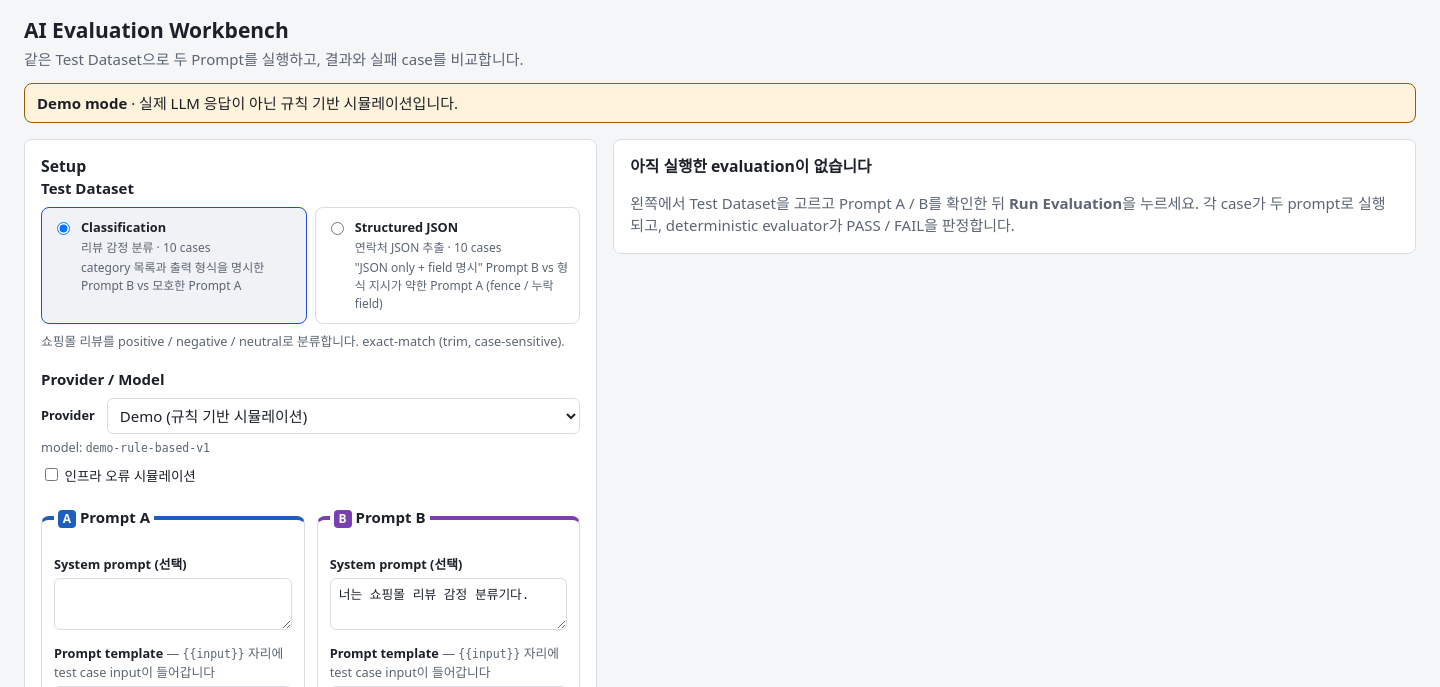
Scenario: App › Structured JSON preset: fenced JSON은 FAIL로 표시된다
The image size is (1440, 687).
What coordinates should you click on to do the following:
click the radio button labelled "Structured JSON"
I would click on:
 (337, 229)
Its box is [331, 222, 344, 235].
(page scrolled)
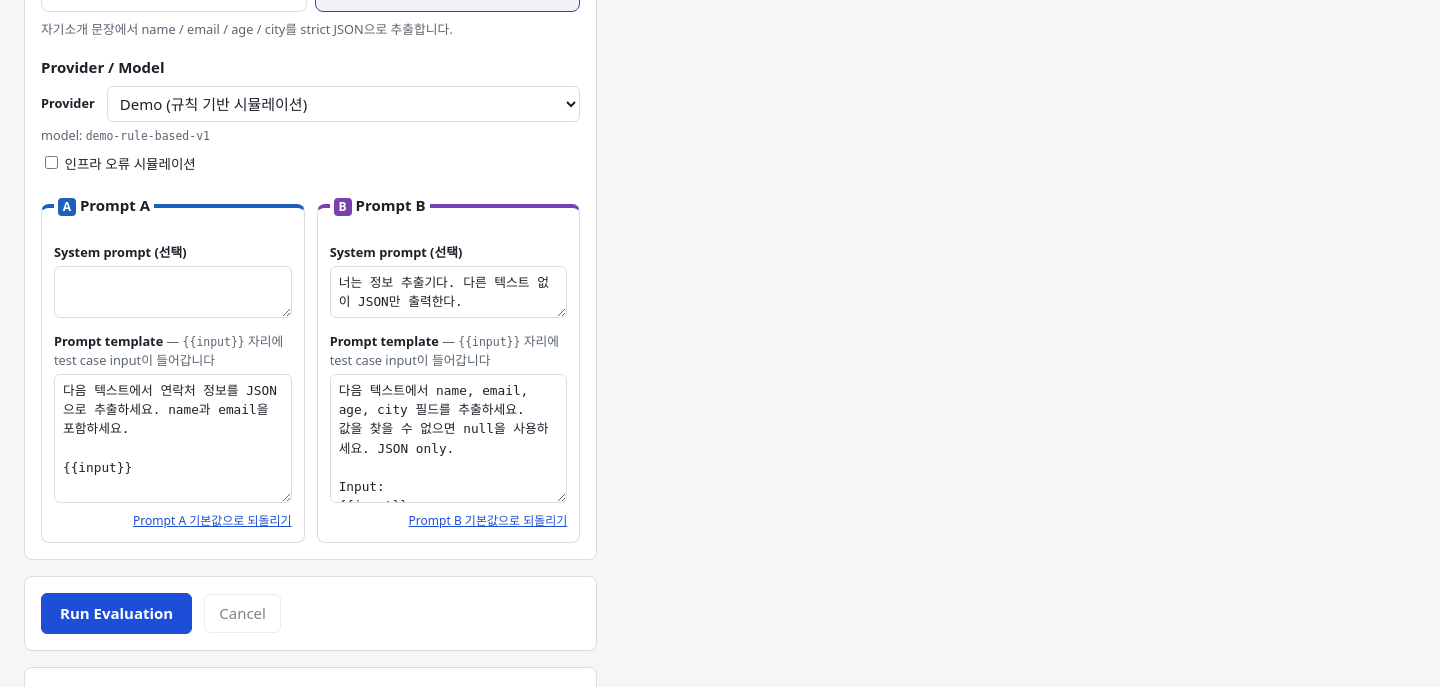
What coordinates should you click on to do the following:
click the button "Run Evaluation"
I would click on:
 (117, 614)
Its box is [41, 593, 192, 634].
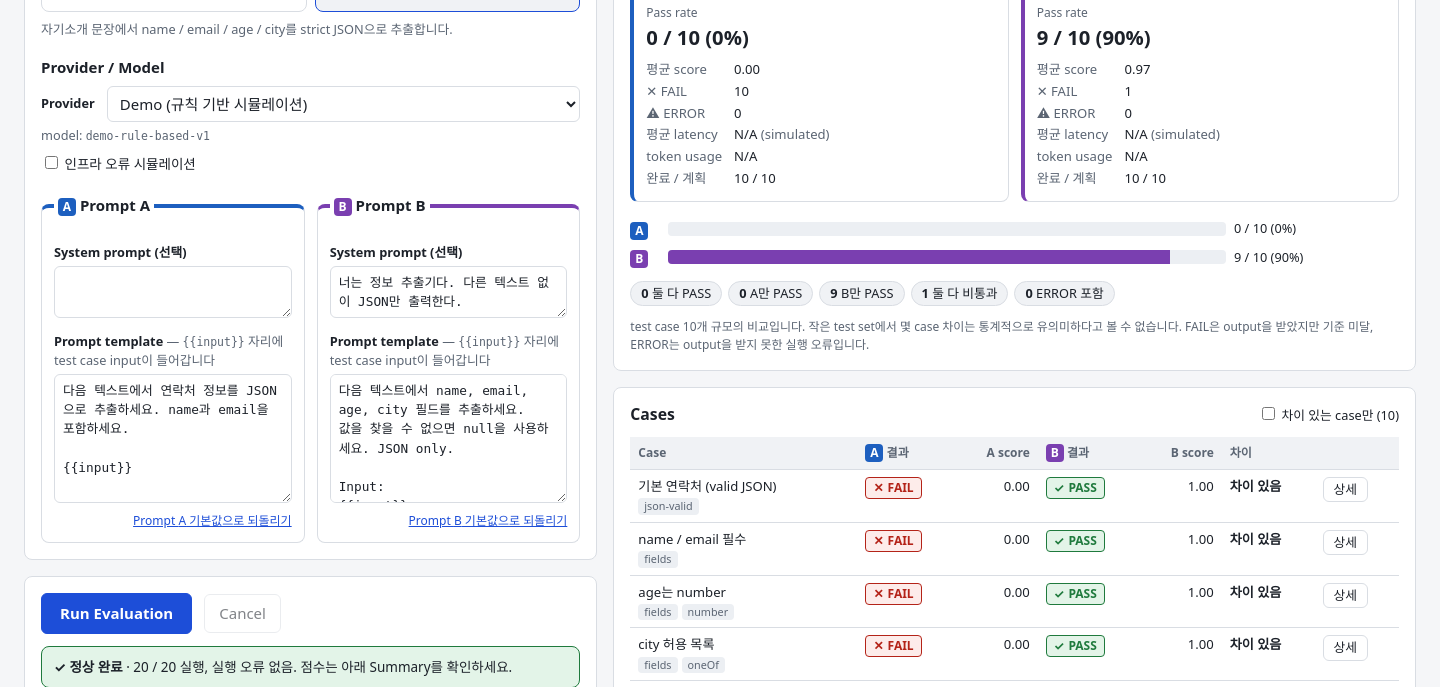
Expected: the 1st text "0 / 10 (0%)" is shown, [646, 23, 749, 51]
What coordinates should you click on to do the following:
click the button with aria-label "기본 연락처 (valid JSON) 상세 보기"
I would click on:
 (1345, 489)
Its box is [1323, 477, 1368, 502].
(page scrolled)
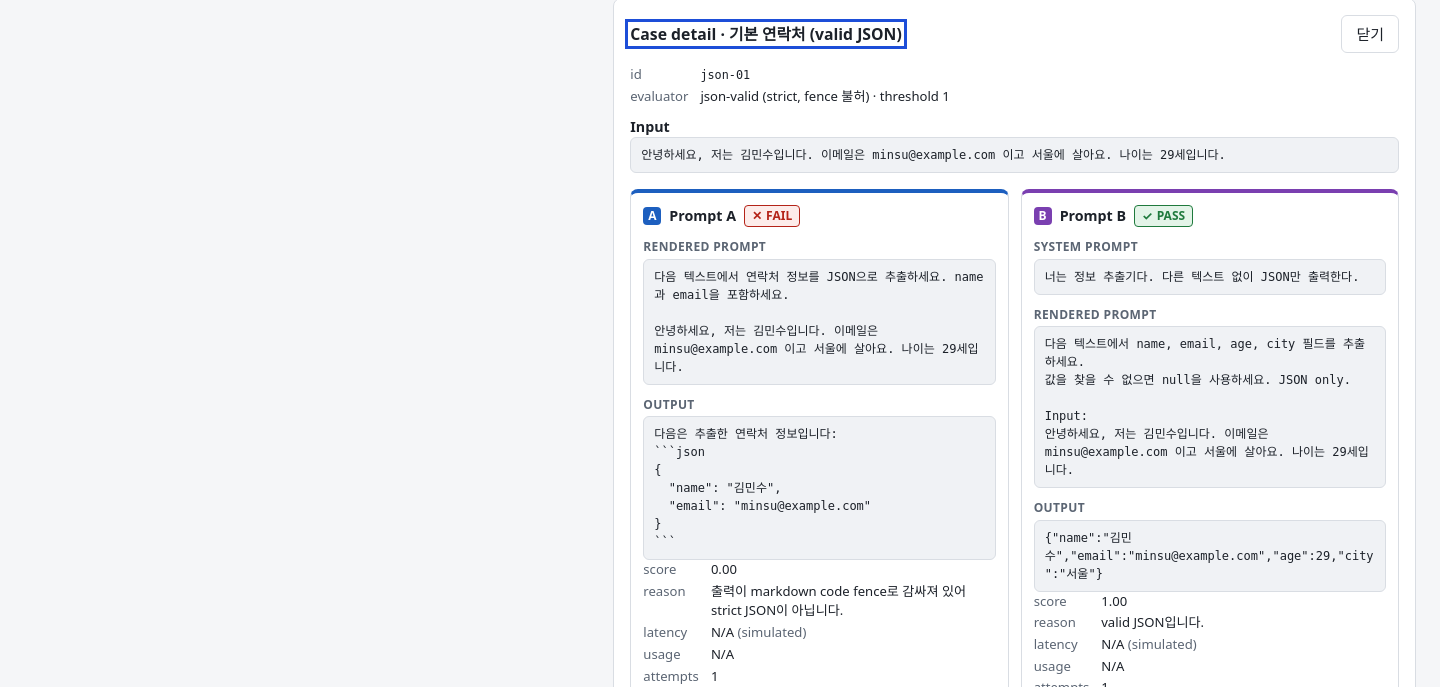
Expected: the text "출력이 markdown code fence로 감싸져 있어 strict JSON이 아닙니다." is shown, [711, 582, 996, 621]
